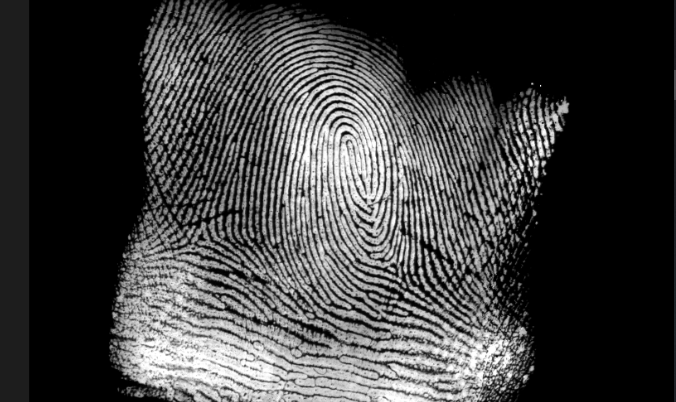deltas: (365, 238, 425, 298), (172, 201, 228, 260)
nucleo: (333, 113, 381, 194)
